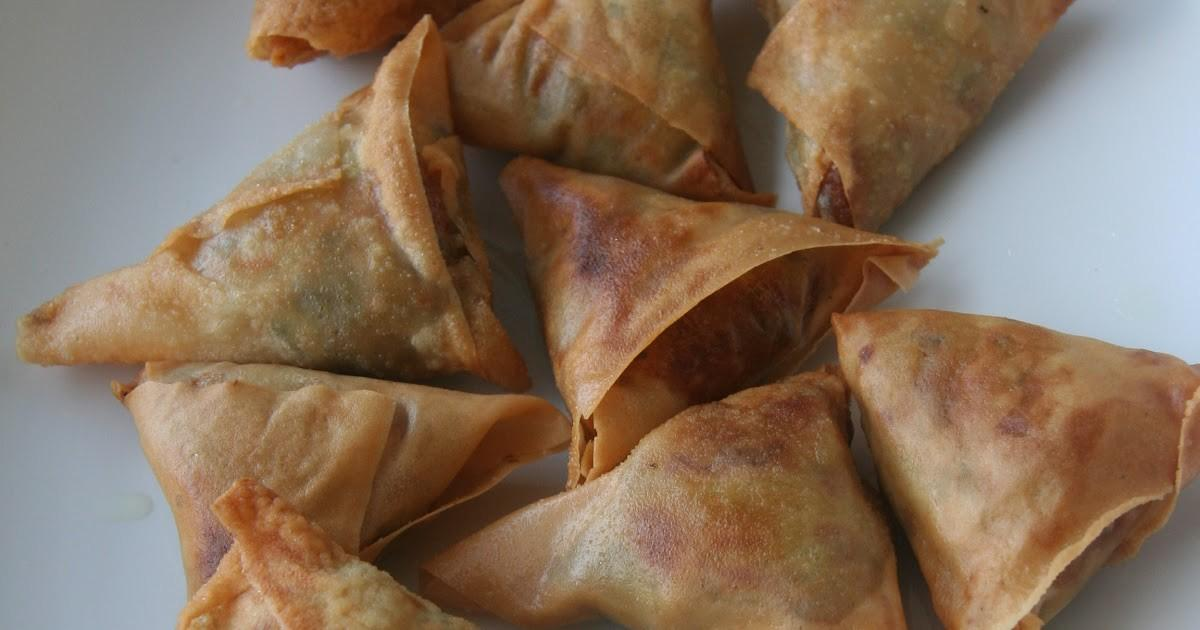Samosa: (18, 13, 529, 364), (502, 149, 937, 489), (424, 367, 902, 630), (836, 308, 1200, 630), (107, 369, 571, 599), (751, 0, 1079, 232), (429, 0, 782, 208), (172, 478, 474, 630)
